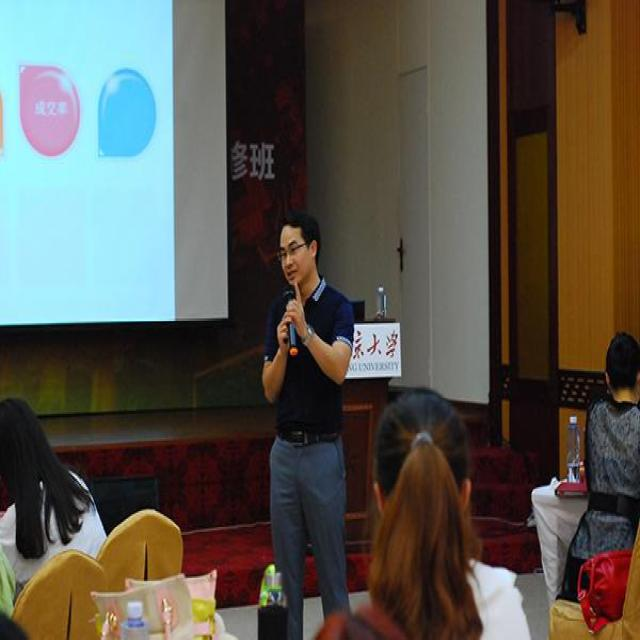head: (365, 374, 479, 538), (271, 209, 321, 296), (600, 325, 639, 406)
